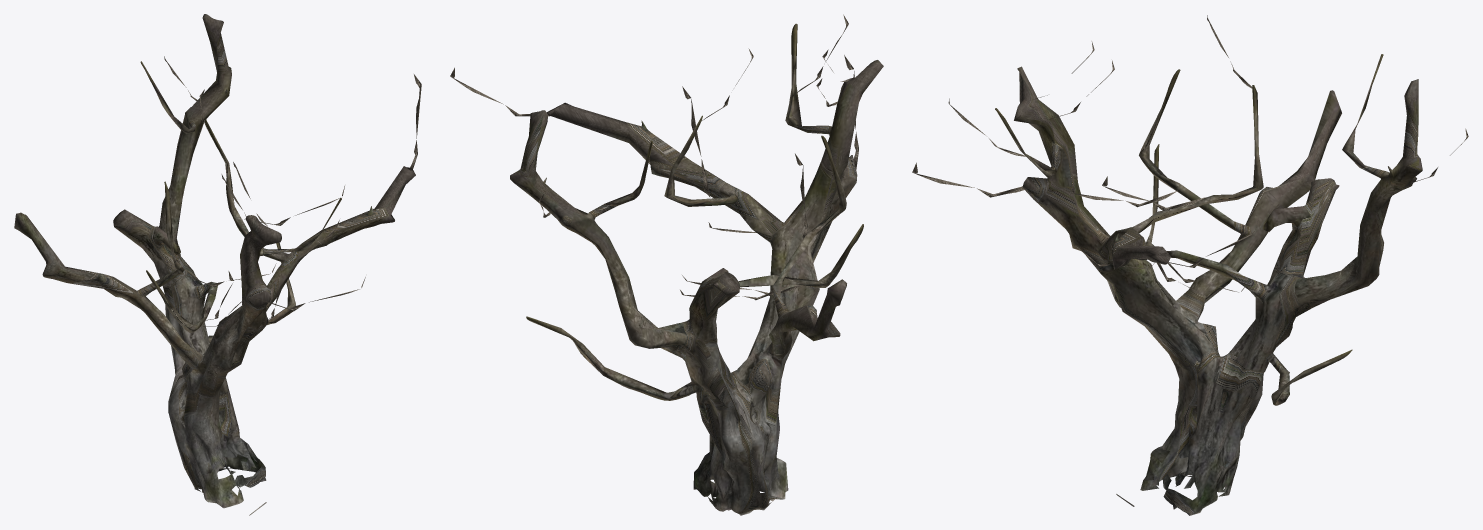
File: island_tree_01_L0_madera.glb
The picture shows the model from 3 angles, left to right: view 1: azimuth 30°, elevation 25°; view 2: azimuth 150°, elevation 25°; view 3: azimuth 270°, elevation 25°; orthographic projection. The views are drawn at different scales.
Visible parts, largest first — view 1: island_tree_01_LOD0; view 2: island_tree_01_LOD0; view 3: island_tree_01_LOD0.
Part boxes in pixels (x1,y1,x2,y2): island_tree_01_LOD0: [14, 14, 421, 515]; island_tree_01_LOD0: [450, 14, 883, 515]; island_tree_01_LOD0: [912, 15, 1468, 515].
Size of the model in its own units: 3.58 by 3.67 by 3.88.
2 materials, 2 textured.
